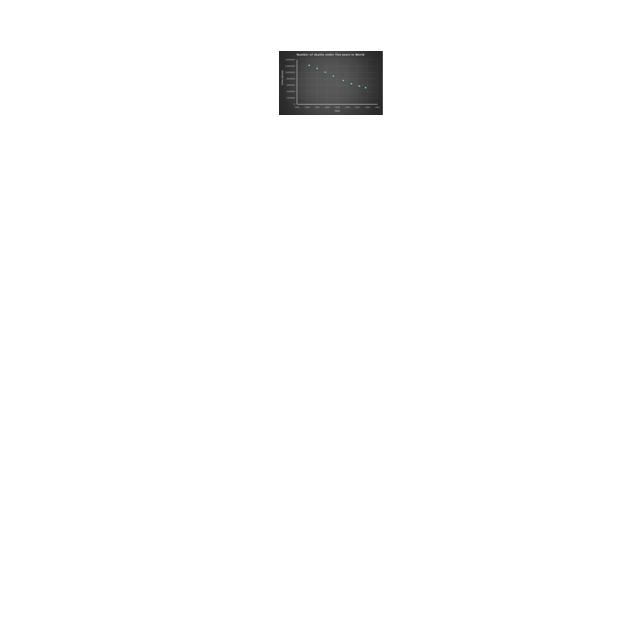Graph: (279, 51, 383, 115)
